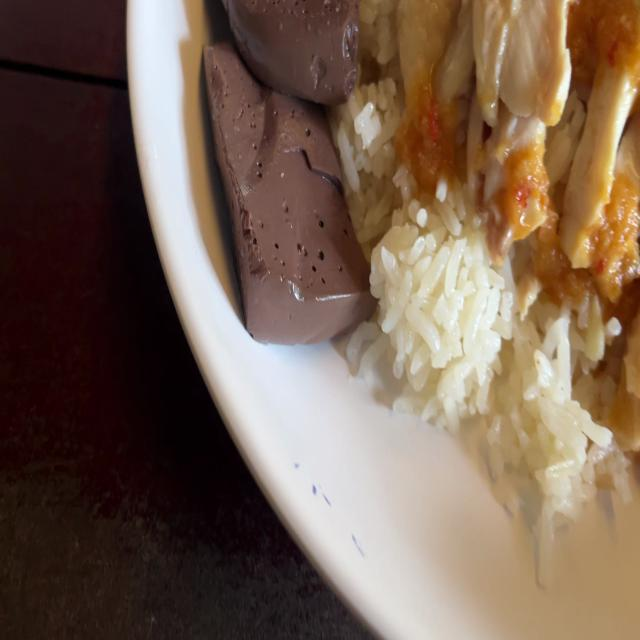boiled_chicken: (377, 0, 640, 311)
boiled_chicken_blood_jelly: (205, 0, 373, 349)
chicken_rice: (199, 1, 640, 572)
